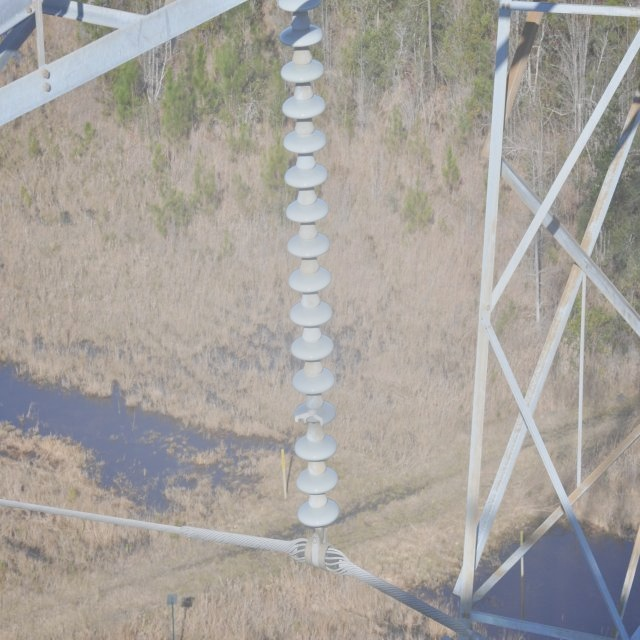broken: (295, 408, 325, 430)
insulator: (278, 0, 340, 529)
